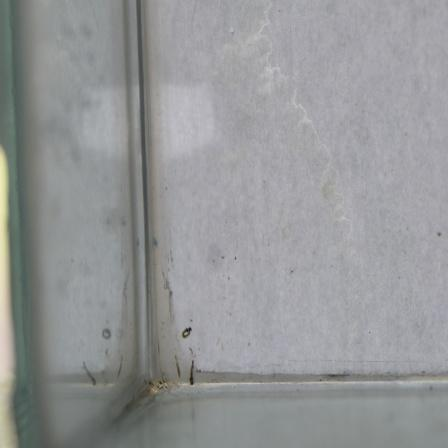Jentik-Nyamuk: (185, 355, 198, 388), (176, 322, 194, 341)
